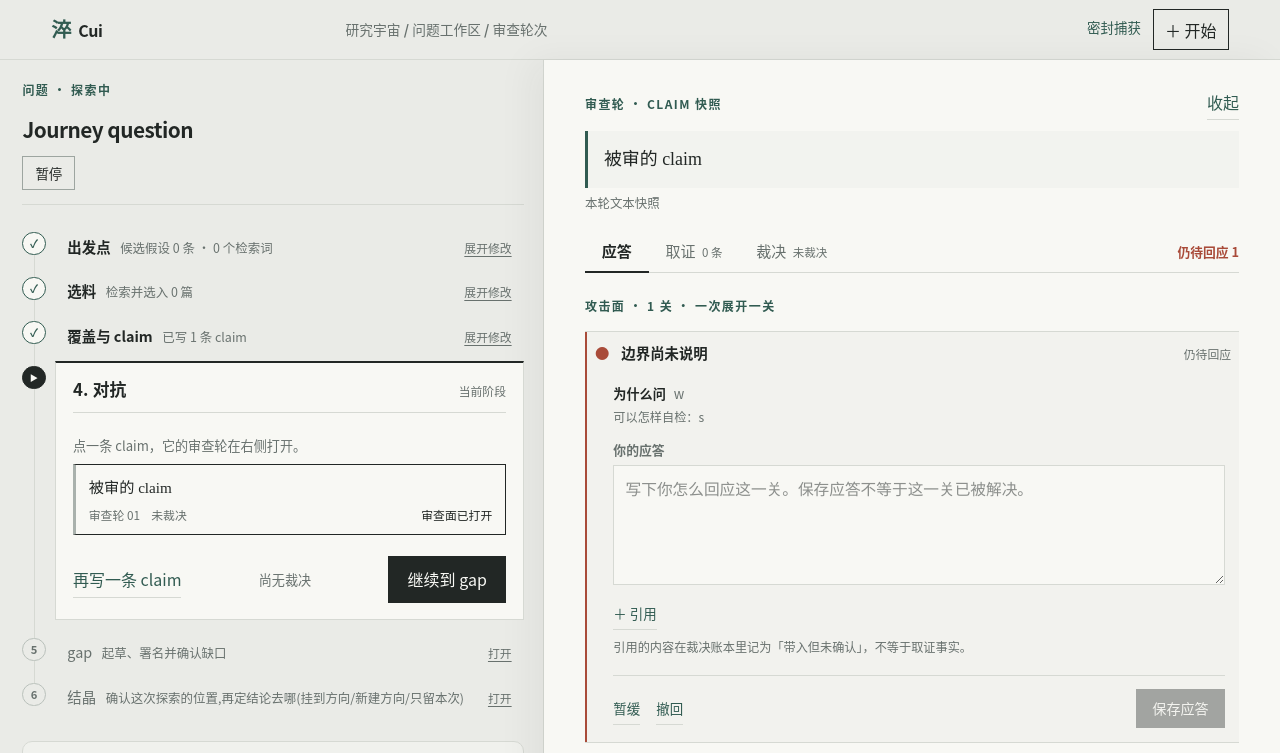
Test: review round routes (S2) › /workspaces/:id/rounds/:rid opens the round in the right-side panel beside the journey; 收起 closes it
Expected: the text "边界尚未说明" is shown, [621,342,708,363]
Expected: the heading "Journey question" is shown, [22,114,193,144]
What coordinates should you click on to do the following:
click the button "收起"
I would click on:
 (1223, 102)
Its box is [1207,84,1239,120].
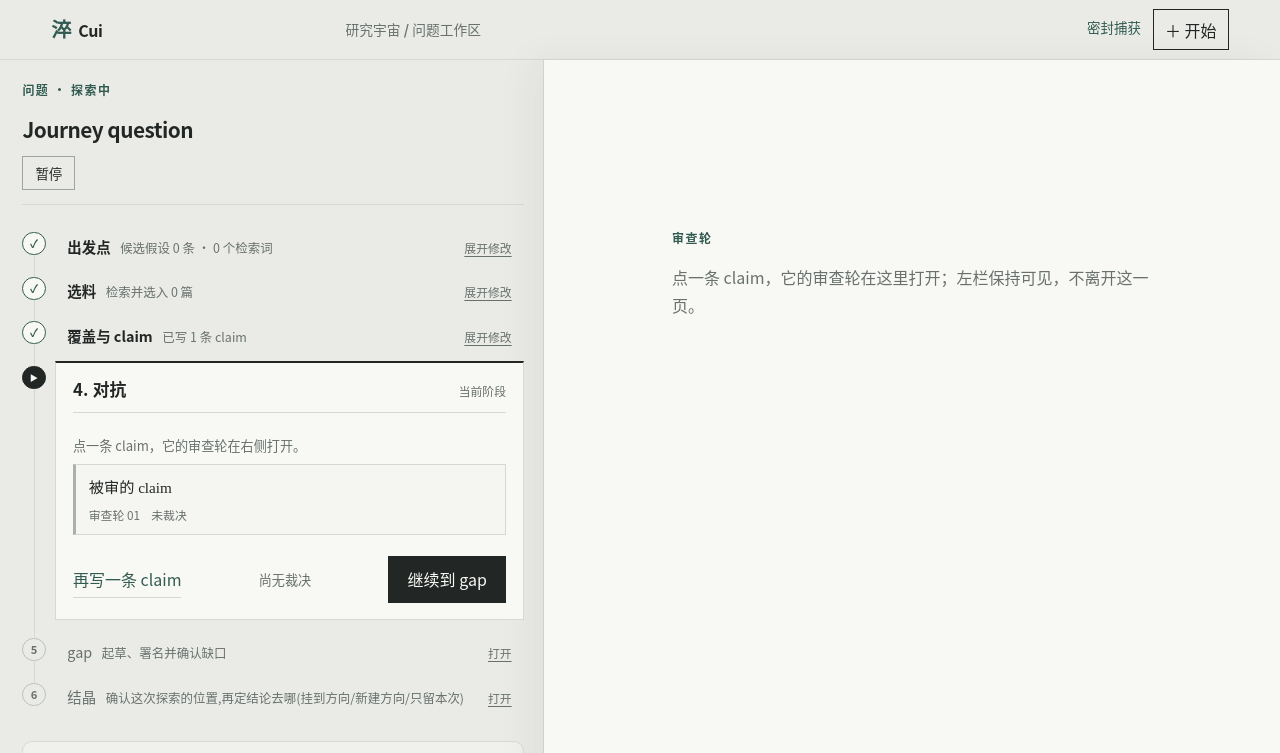
Expected: the text "点一条 claim，它的审查轮在这里打开；左栏保持可见，不离开这一页。" is shown, [672,264,1152,319]
